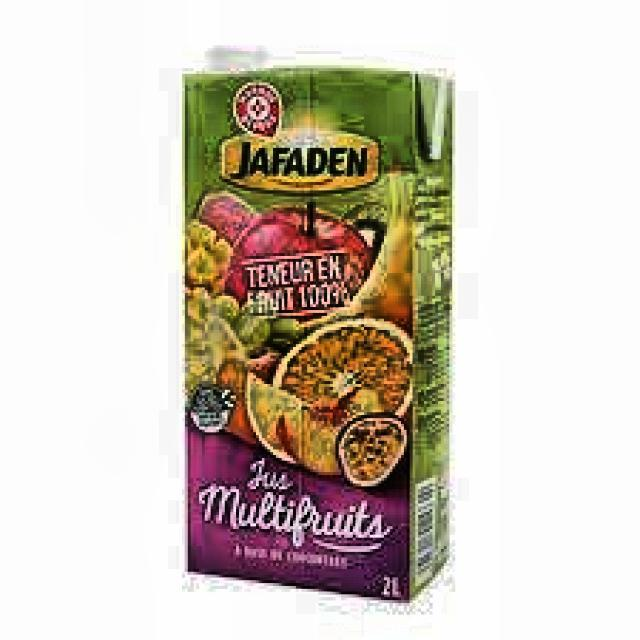cardboard: (179, 62, 452, 604)
